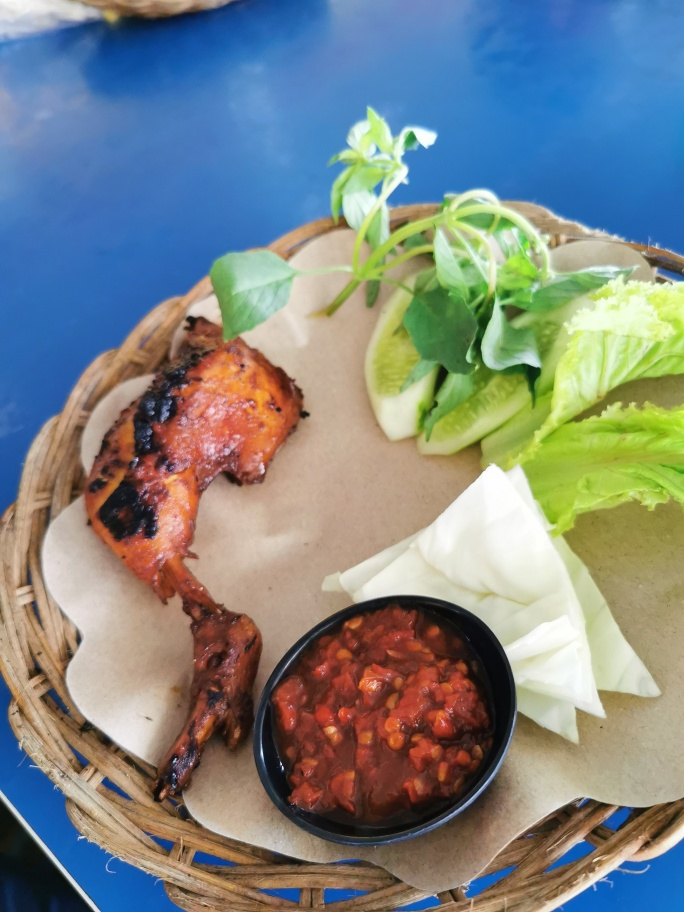ayam bakar: (68, 307, 308, 802)
